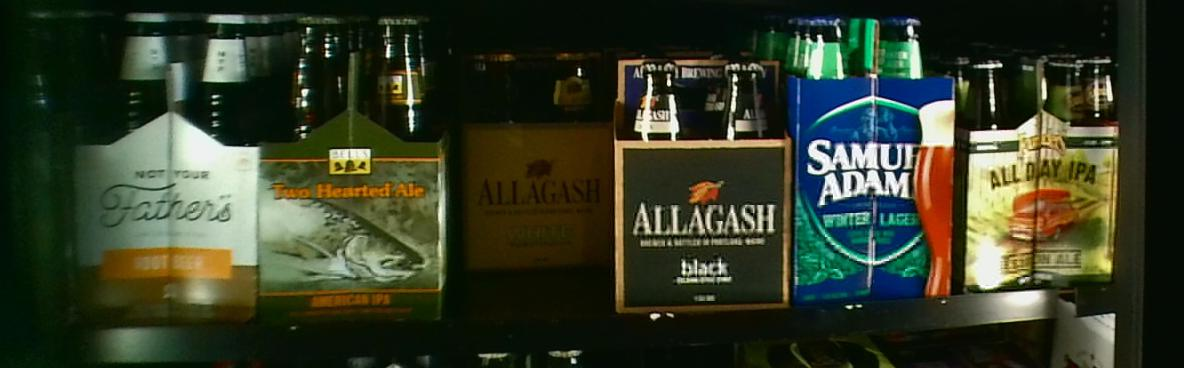bottle: (68, 2, 257, 331), (258, 9, 449, 307), (797, 19, 958, 299), (622, 58, 788, 317), (962, 59, 1118, 292), (461, 44, 612, 272)
